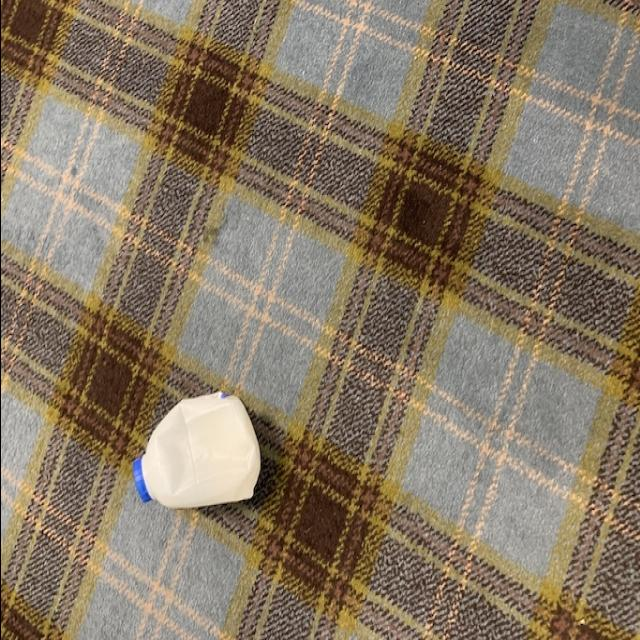HDPEM: (121, 387, 259, 512)
